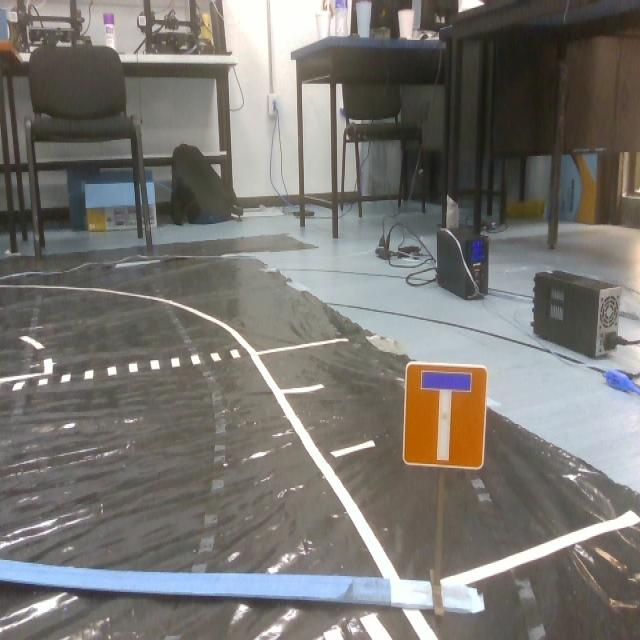stop: (406, 358, 485, 478)
